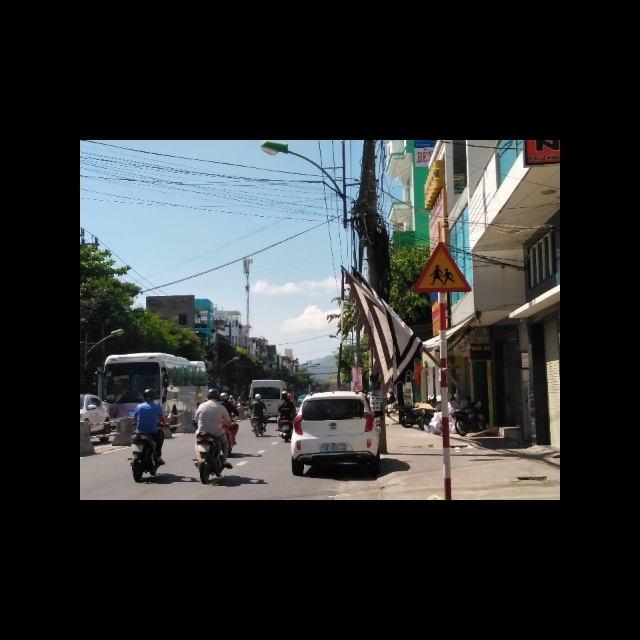Trẻ em ngang qua: (408, 237, 472, 292)
